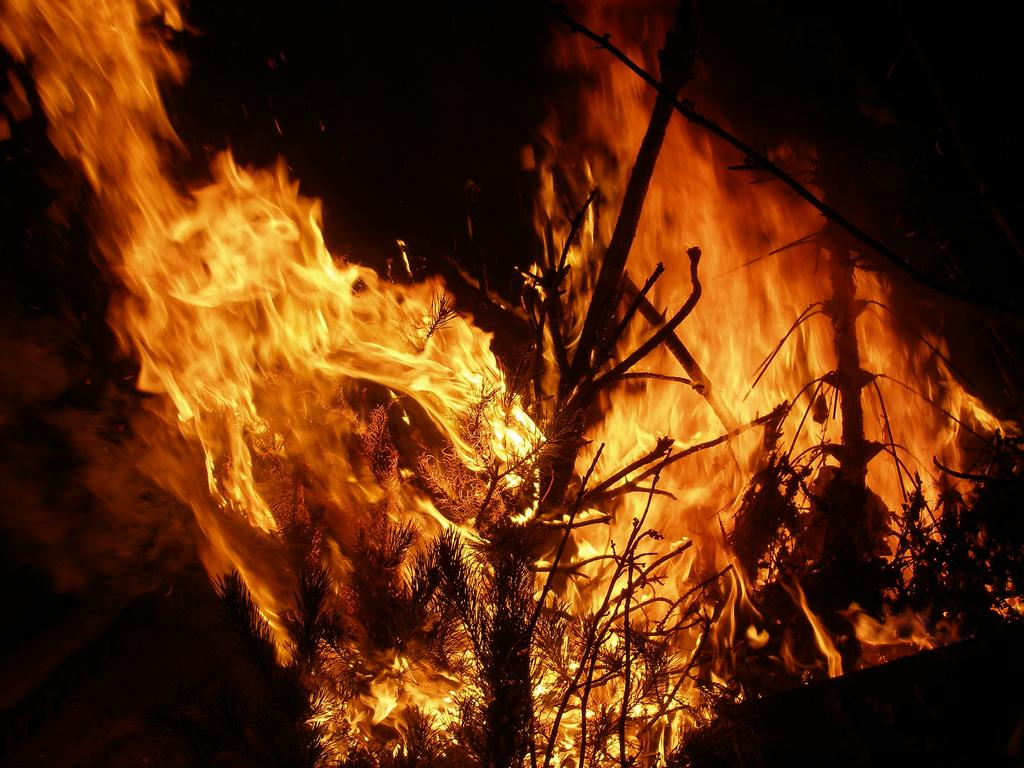fire: (134, 216, 456, 540), (634, 182, 872, 568)
